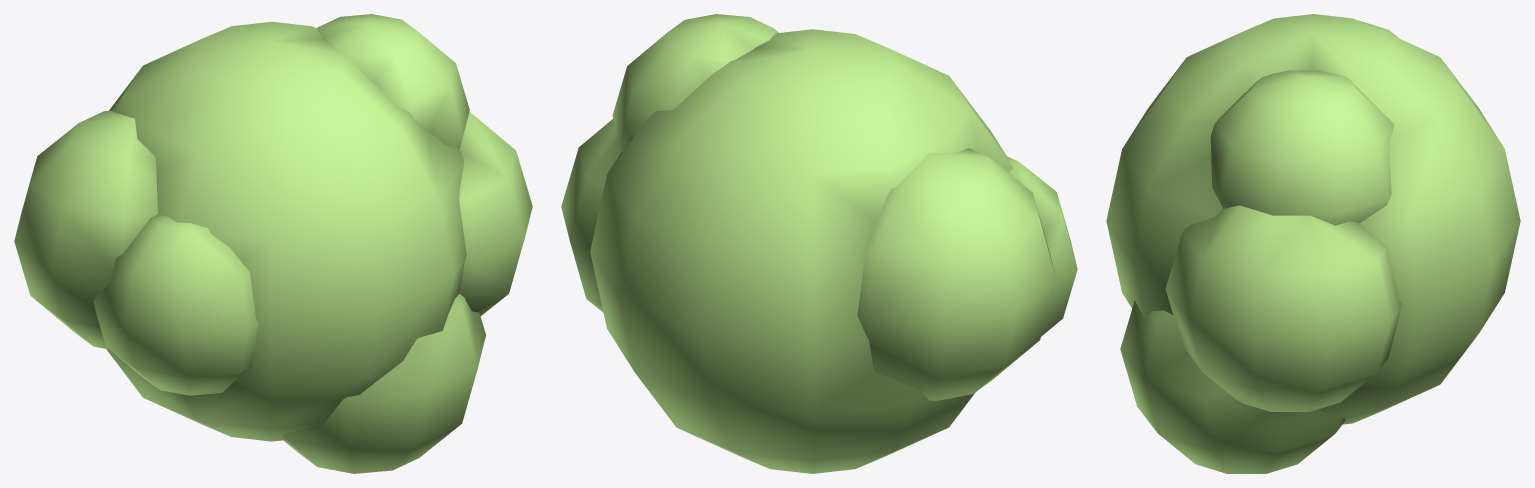
File: GasGrenadeGas.fbx
3 views of the same model, side by side, from view 1: azimuth 30°, elevation 25°; view 2: azimuth 150°, elevation 25°; view 3: azimuth 270°, elevation 25° (orthographic). The views are drawn at different scales.
Visible parts, largest first — view 1: gas_cloud; view 2: gas_cloud; view 3: gas_cloud.
Boxes of the visible parts, bbox=[...] form: gas_cloud: bbox=[14, 14, 532, 473]; gas_cloud: bbox=[561, 14, 1077, 473]; gas_cloud: bbox=[1106, 14, 1520, 473].
Size of the model in its own units: 0.4998 by 0.4306 by 0.4.
